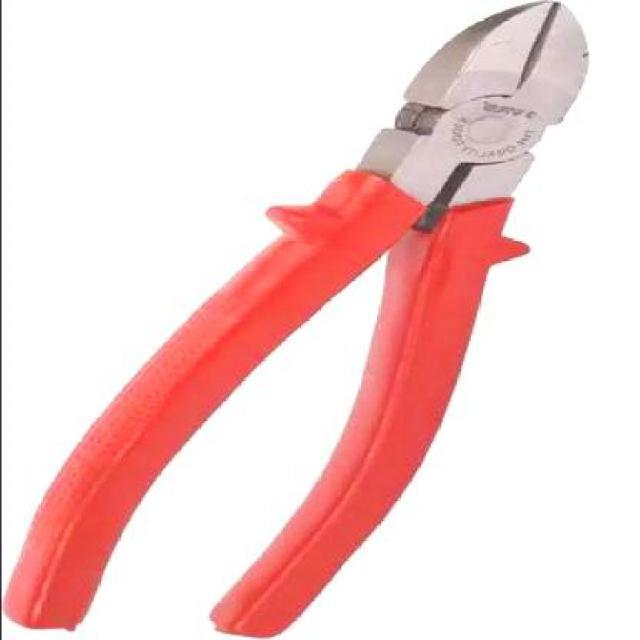pliers: (5, 0, 589, 638)
